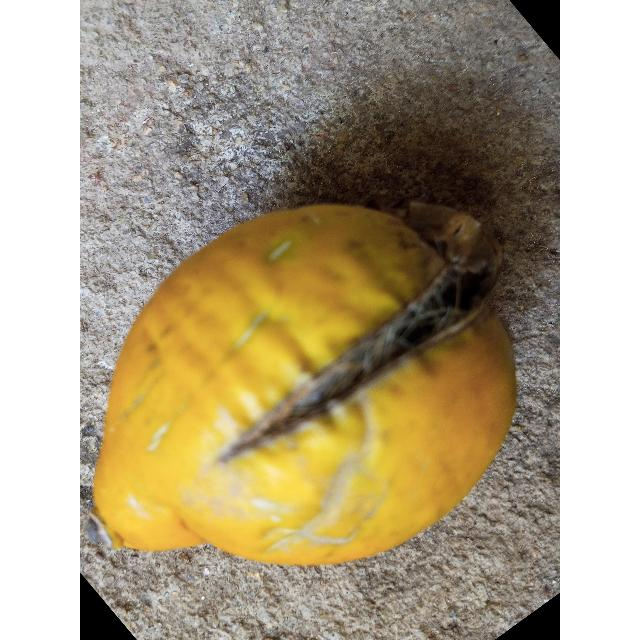damaged: (90, 191, 520, 573)
